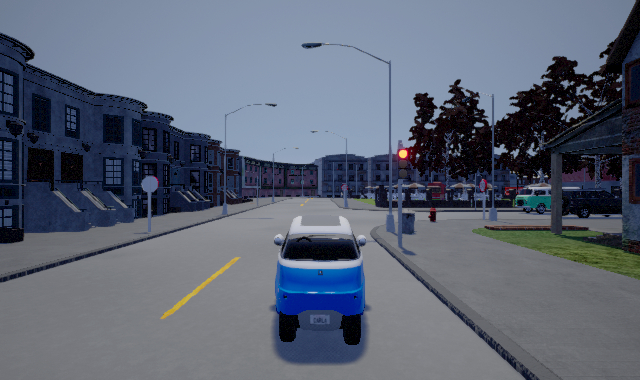traffic_light: (396, 148, 408, 179)
traffic_sign: (476, 179, 487, 191), (341, 184, 348, 191)
vehicle: (274, 215, 367, 345), (562, 187, 622, 218), (505, 187, 551, 214)
